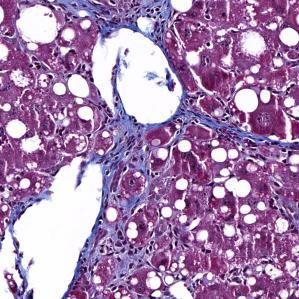fibrosis: (107, 112, 164, 241), (66, 0, 173, 36)
